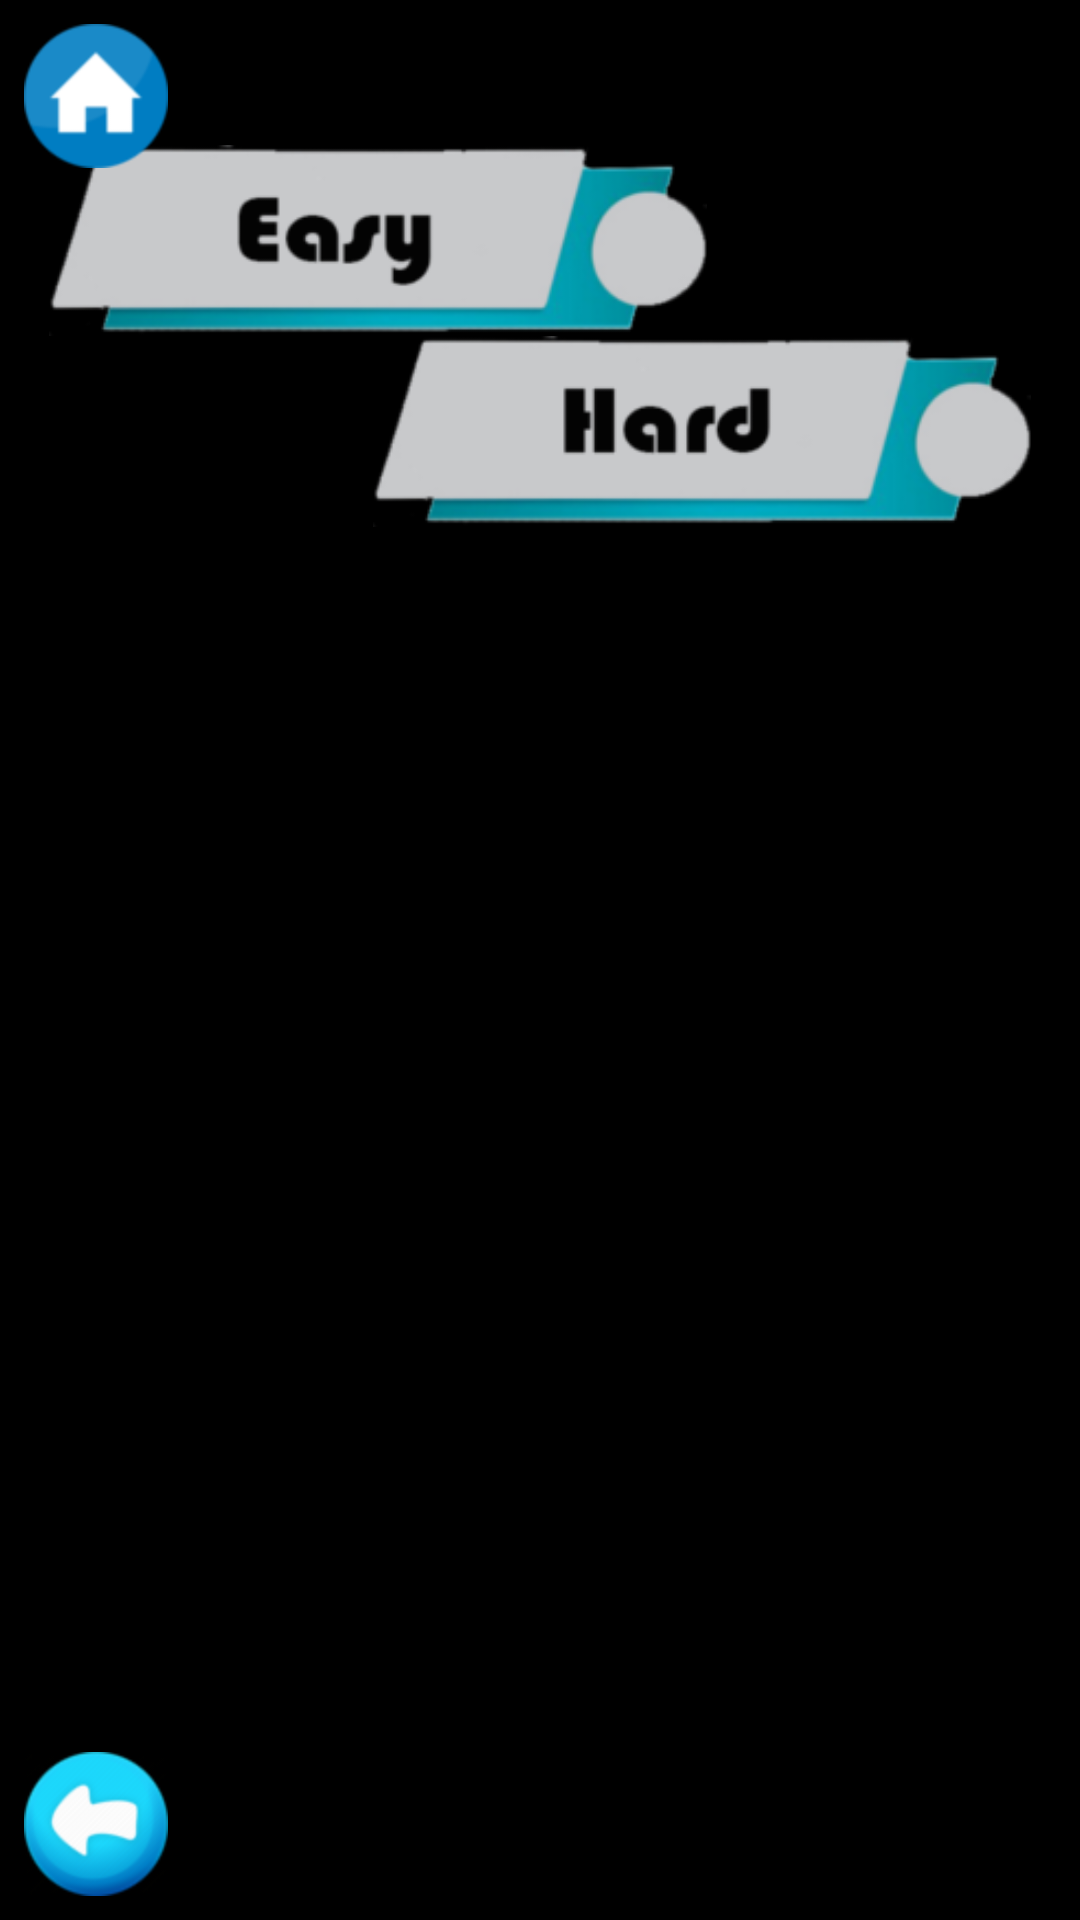

Locate icon controls on the screen. Image size 1080x1920, boxes as (x1, y1, x2, y2).
back: (24, 1752, 168, 1896)
home: (24, 24, 168, 168)
